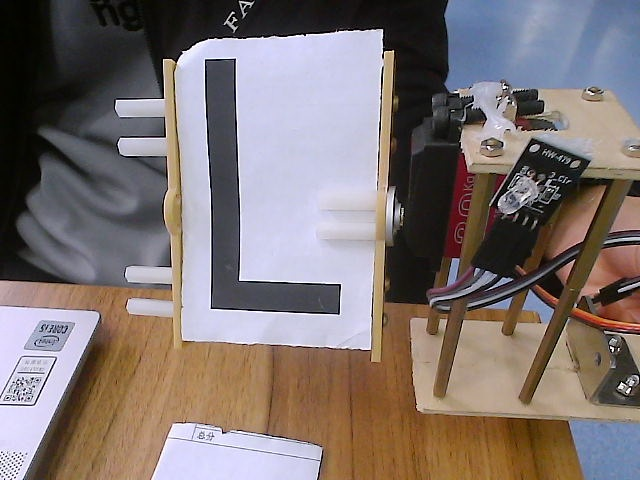L: (101, 8, 446, 366)
